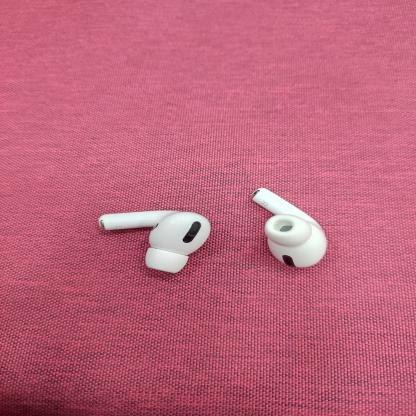Airpods: (77, 199, 222, 277), (249, 183, 337, 280)
